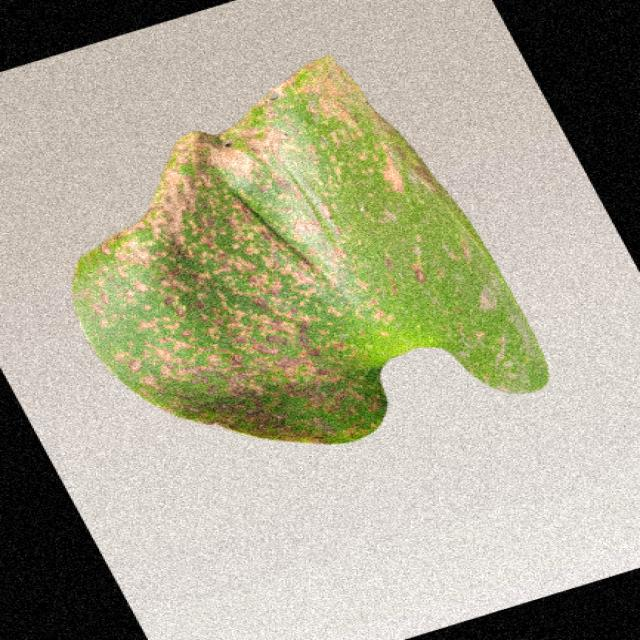daun berpenyakit bercak: (73, 58, 548, 443)
